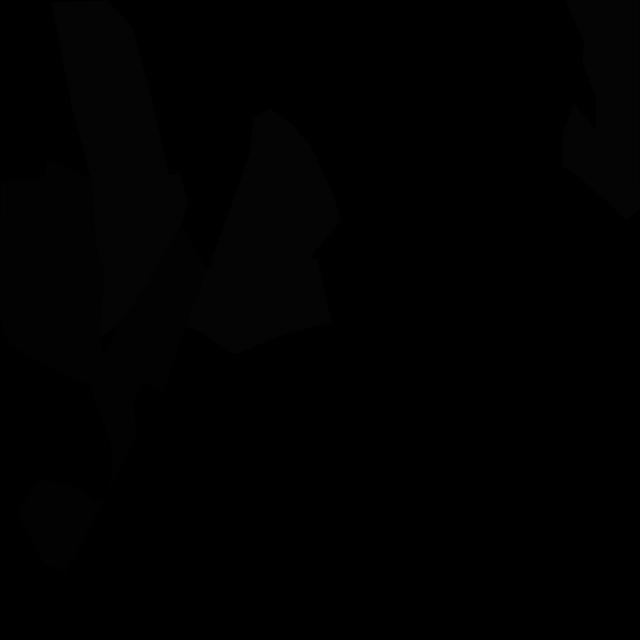cardboard: (18, 225, 207, 573), (0, 159, 105, 385)
soft_plastic: (51, 0, 188, 338), (186, 108, 341, 354), (562, 0, 640, 220)
